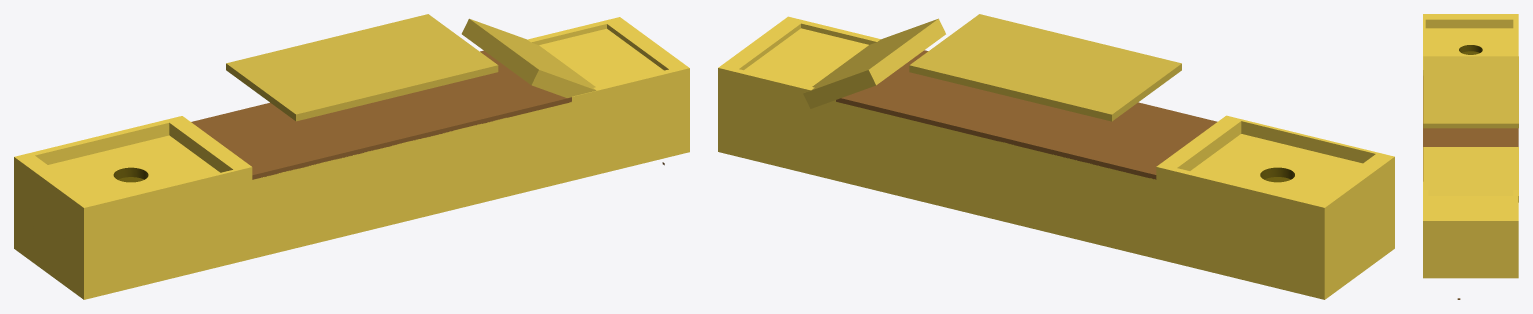
The model's file is LVL 2 Model.fbx.
3 renders of one model, left to right at view 1: azimuth 30°, elevation 25°; view 2: azimuth 150°, elevation 25°; view 3: azimuth 270°, elevation 25°, orthographic. The views are drawn at different scales.
Parts seen in each view (by area): view 1: Boole_1, Cube, Cube_1, Cube_2; view 2: Boole_1, Cube, Cube_1, Cube_2; view 3: Boole_1, Cube_1, Cube_2, Cube.
Boxes of the visible parts, x1,y1,x2,y2 form: Boole_1: [14, 17, 689, 299]; Cube: [191, 50, 664, 179]; Cube_1: [226, 14, 498, 121]; Cube_2: [461, 18, 596, 97]; Boole_1: [718, 16, 1394, 299]; Cube: [836, 50, 1217, 179]; Cube_1: [909, 14, 1181, 121]; Cube_2: [803, 18, 945, 108]; Boole_1: [1423, 14, 1518, 278]; Cube_1: [1423, 56, 1518, 128]; Cube_2: [1423, 147, 1518, 202]; Cube: [1423, 76, 1518, 299].
Bounding box in the file's own units: 400 × 104 × 80.3.
